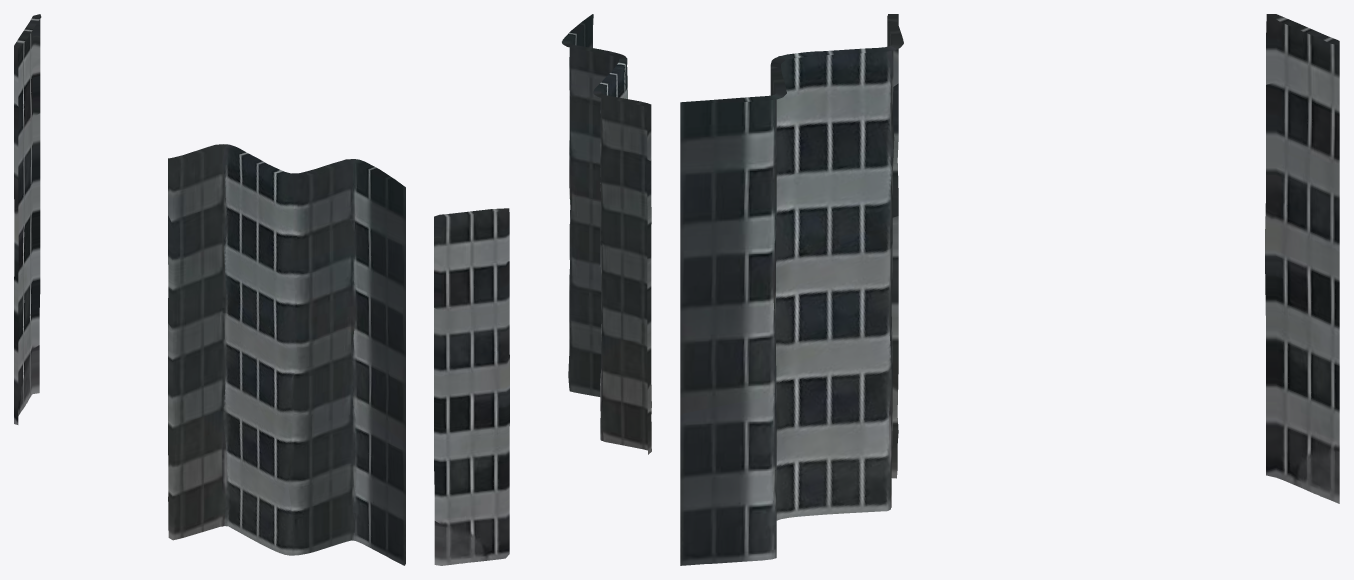
Rendered from z20-167775-405234-h1-yup-uvflip-v3-world.glb.
3 views of the same model, side by side, from view 1: azimuth 30°, elevation 25°; view 2: azimuth 150°, elevation 25°; view 3: azimuth 270°, elevation 25° (orthographic). The views are drawn at different scales.
Bounding box in the file's own units: 9.68 × 23.56 × 30.32.
Materials: 1 (1 with a texture image).
